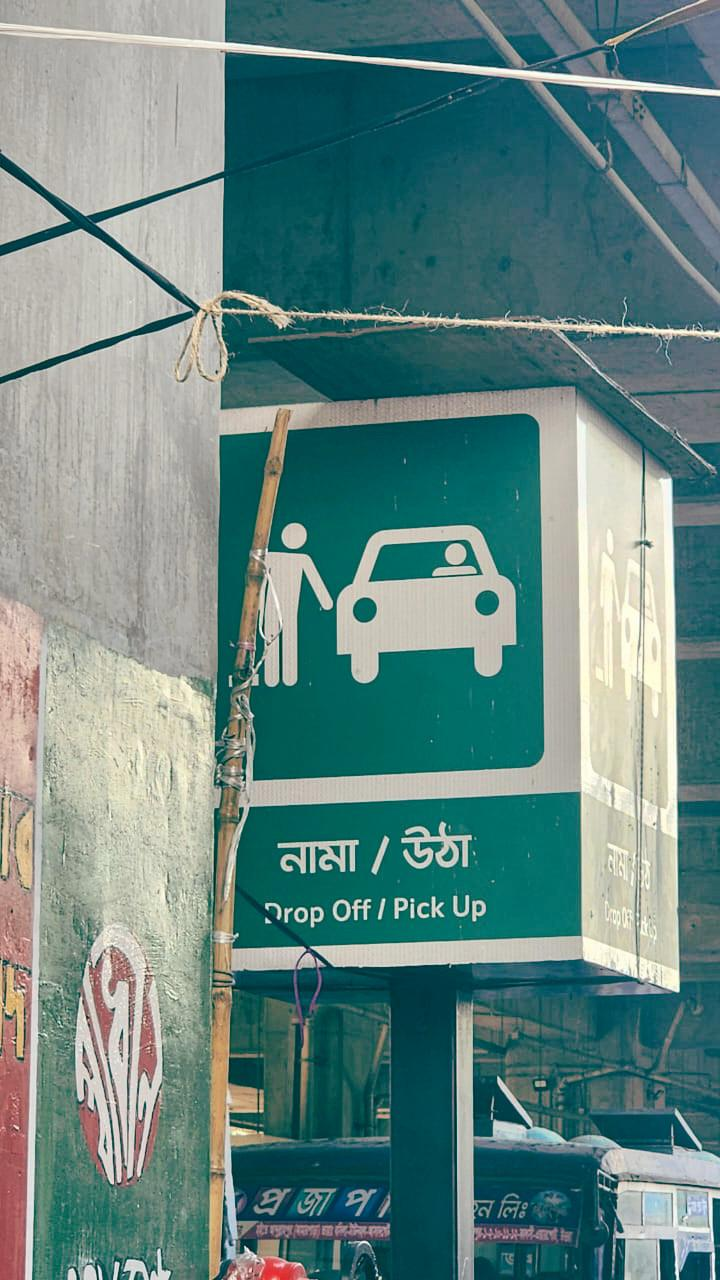Metro Dorp Up Pick up: (220, 383, 677, 721), (223, 708, 674, 995)
